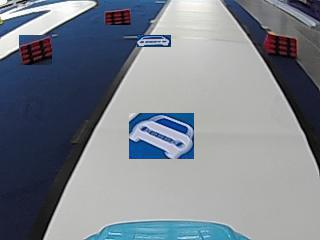bomb: (261, 32, 298, 57)
